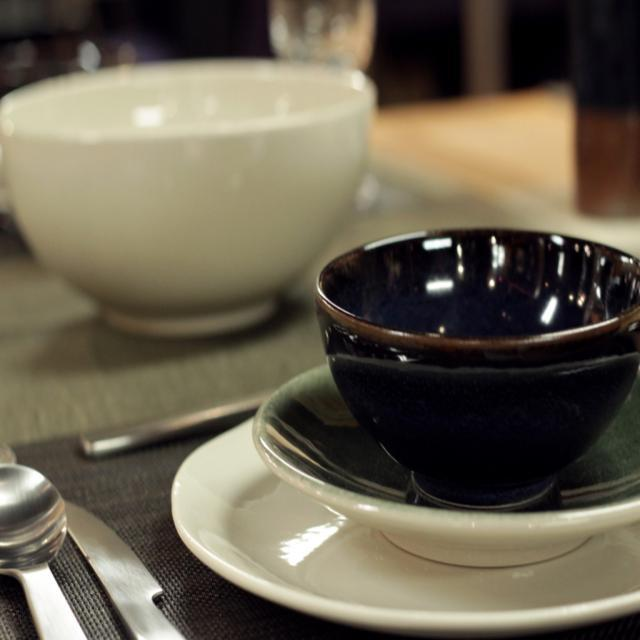ceramic plate: (0, 48, 386, 340), (299, 209, 640, 523)
